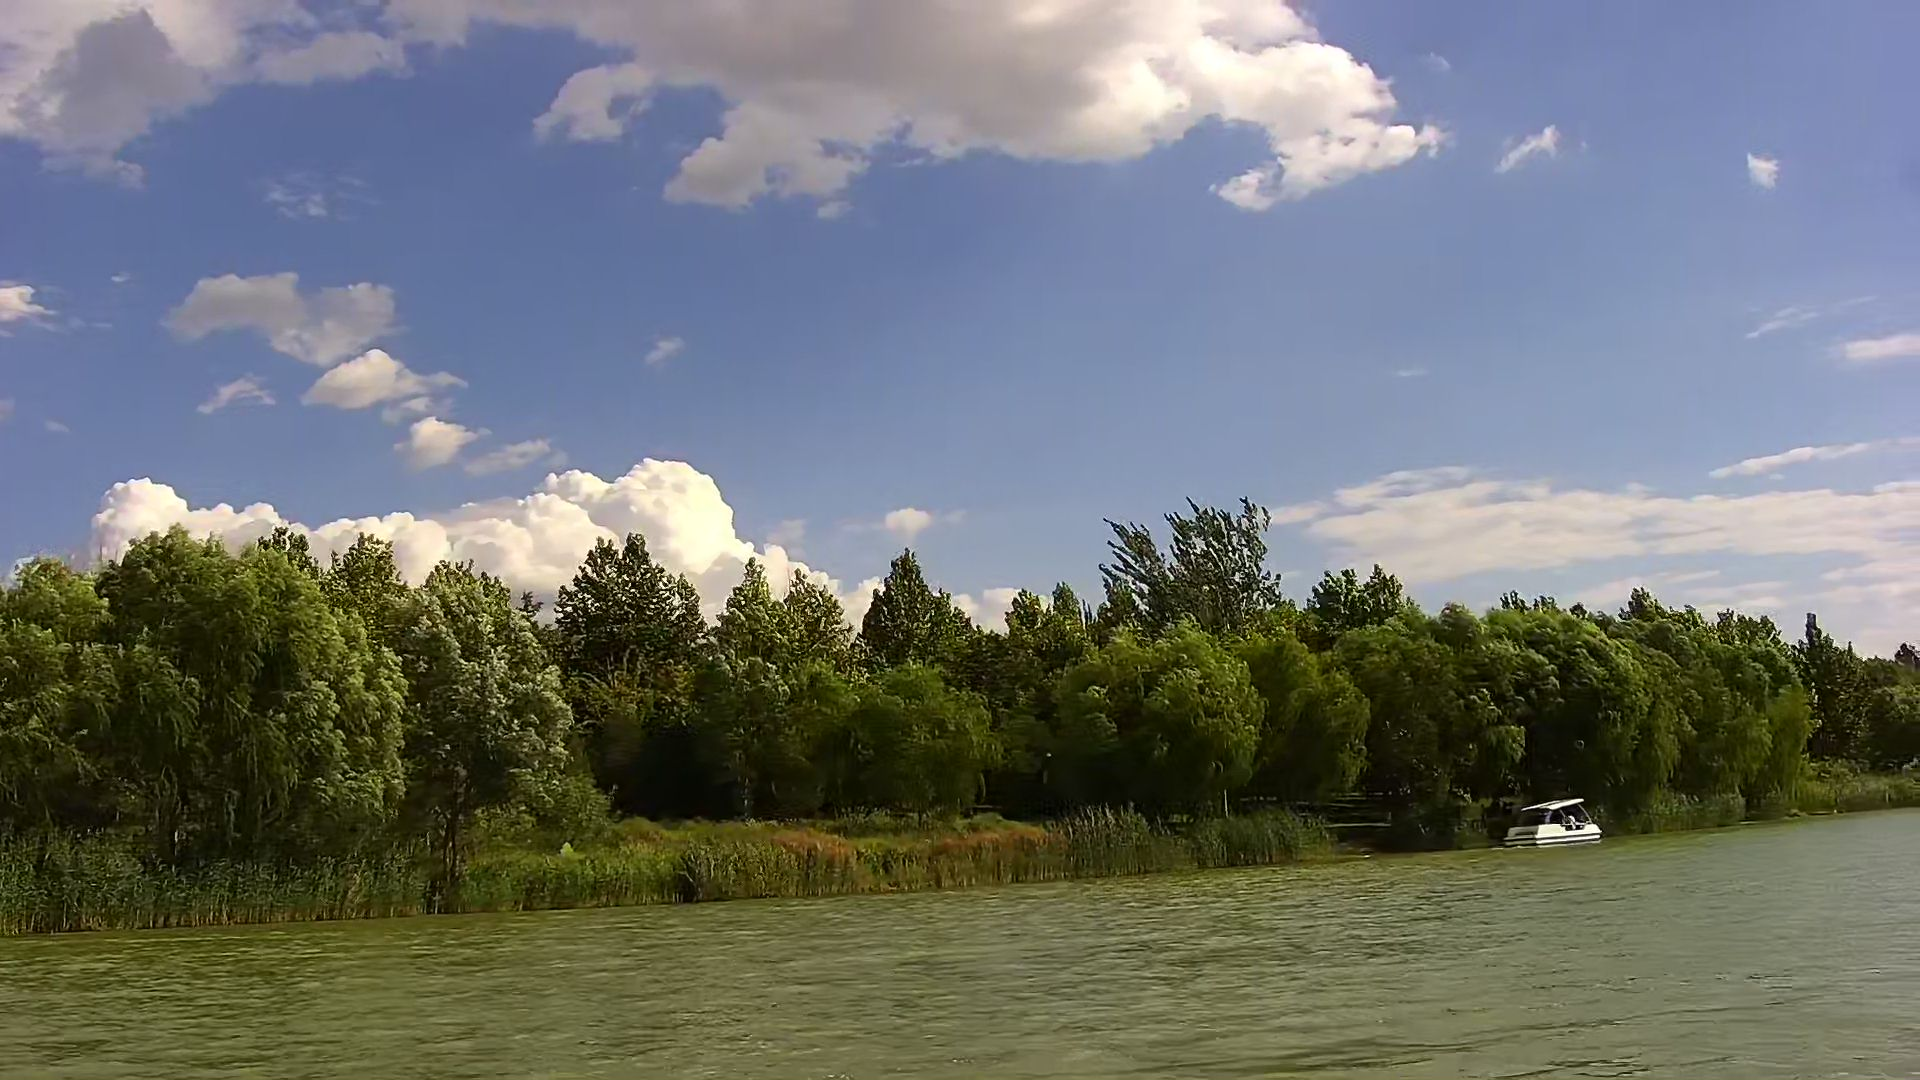boat: (1506, 798, 1602, 849)
